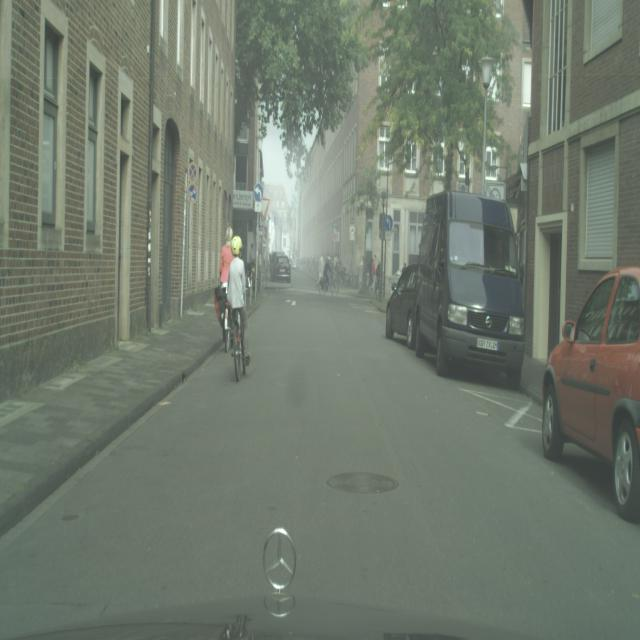car: (229, 306, 246, 381)
person: (226, 235, 250, 368), (218, 225, 234, 329), (219, 226, 234, 294), (325, 252, 333, 291), (318, 252, 326, 290), (370, 253, 377, 292)
rider: (414, 191, 526, 390)
truck: (541, 265, 640, 520), (414, 191, 526, 391), (386, 263, 419, 348), (270, 251, 291, 282)
